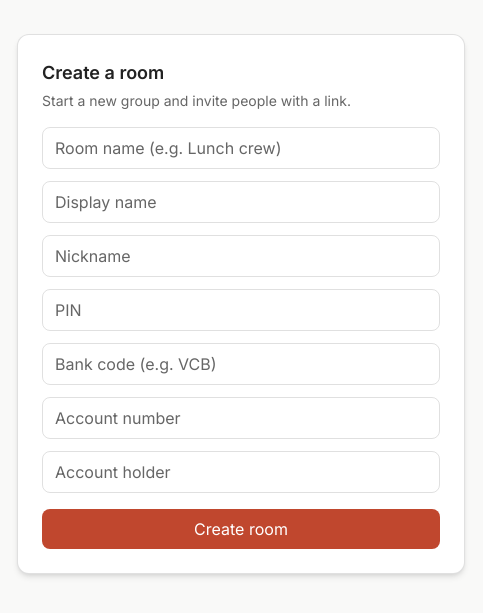
Test: CreateRoom page › shows the server error message on failure
The image size is (483, 613).
Click the button "Create room". click: (241, 529)
box: [42,509,440,549]
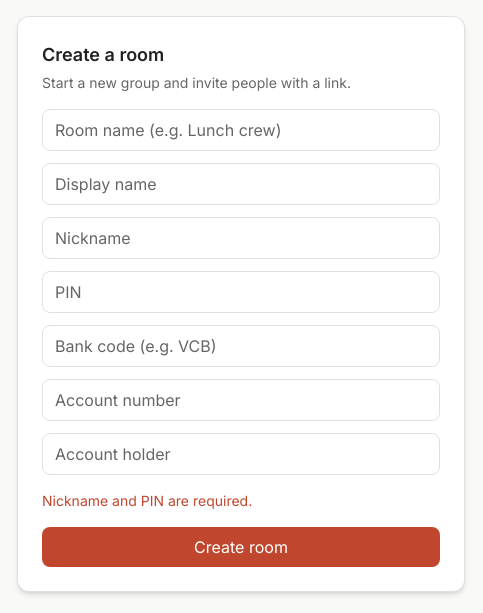
Expected: the message reads "Nickname and PIN are required.", [42,492,252,509]
